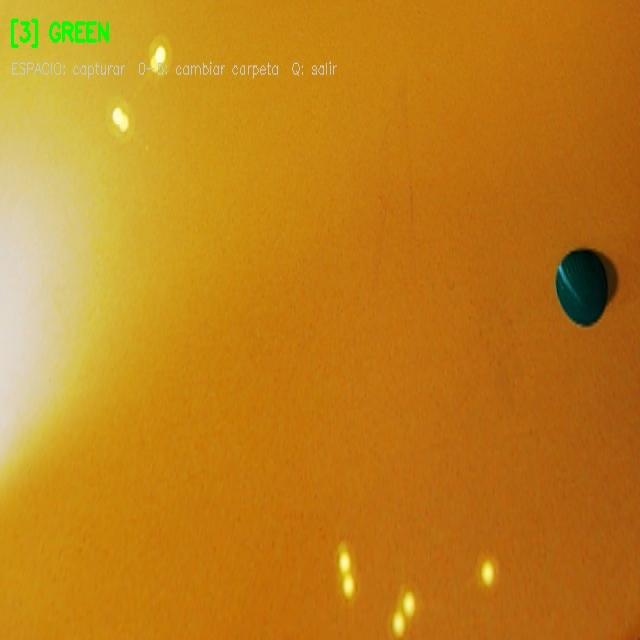green: (555, 244, 623, 327)
